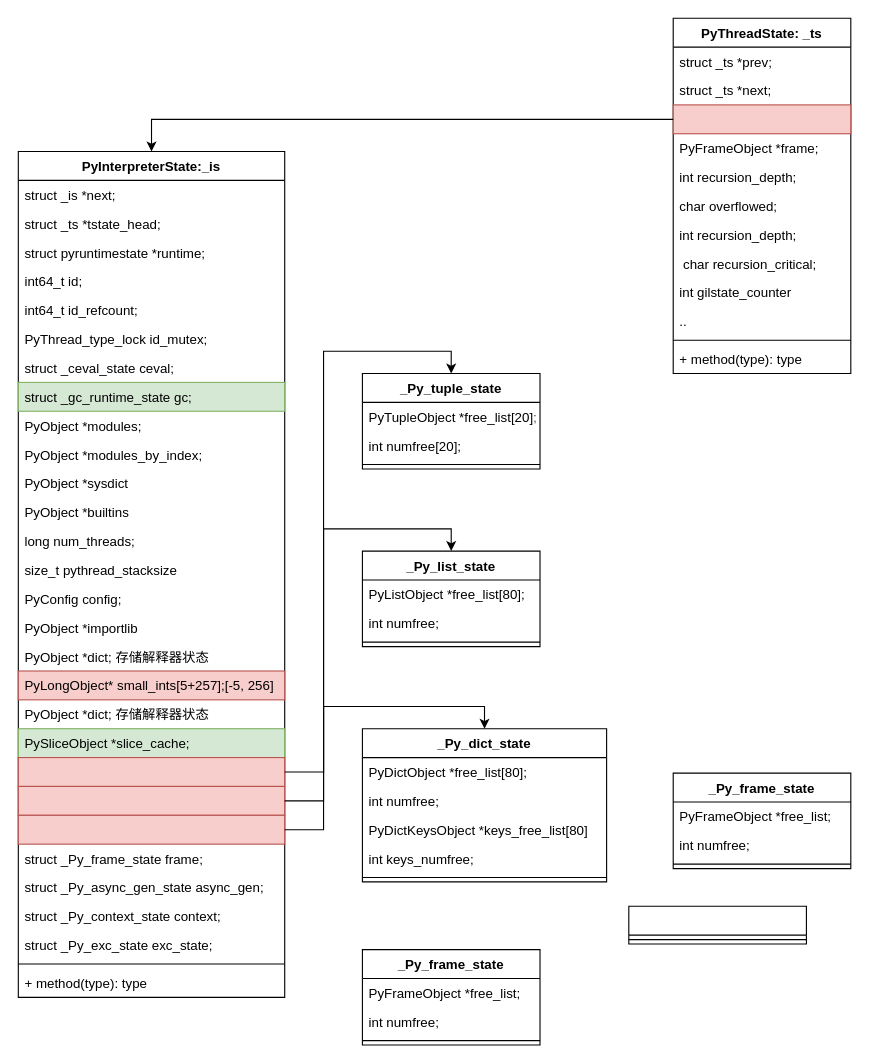
Image size: 869x1063. Some labels were removed from this diagram. Each missing label, with the centre of its shape:
"_Py_async_gen_state" goes at pixel 717 924.
"PyInterpreterState *interp;" goes at pixel 761 119.
"struct _Py_dict_state dict_state;" goes at pixel 151 829.
"struct _Py_list_state list;" goes at pixel 151 800.
"struct _Py_tuple_state tuple;" goes at pixel 151 771.
